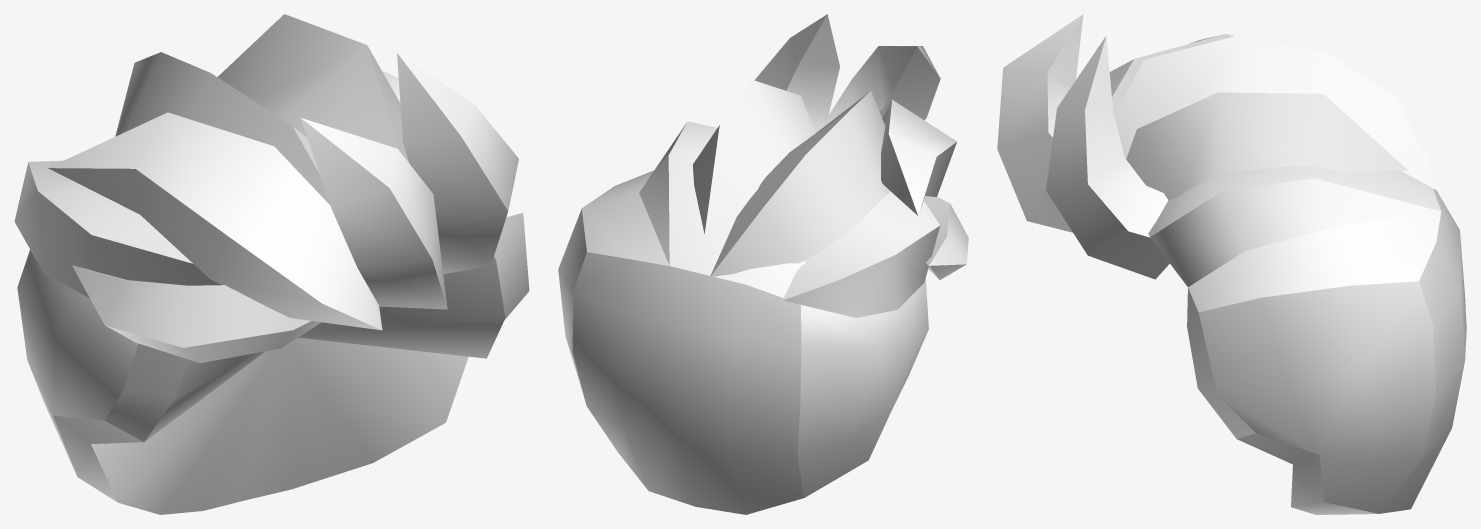
Rendered from Male_Hairs_06_v4.fbx.
The picture shows the model from 3 angles, left to right: view 1: azimuth 30°, elevation 25°; view 2: azimuth 150°, elevation 25°; view 3: azimuth 270°, elevation 25°; orthographic projection. The views are drawn at different scales.
Visible parts, largest first — view 1: Male_Hairs_06_v4; view 2: Male_Hairs_06_v4; view 3: Male_Hairs_06_v4.
Boxes of the visible parts, left/top/right/bottom form: Male_Hairs_06_v4: left=14, top=14, right=529, bottom=514; Male_Hairs_06_v4: left=558, top=14, right=968, bottom=514; Male_Hairs_06_v4: left=997, top=14, right=1466, bottom=514.
Size of the model in its own units: 69.14 by 78.91 by 72.59.
